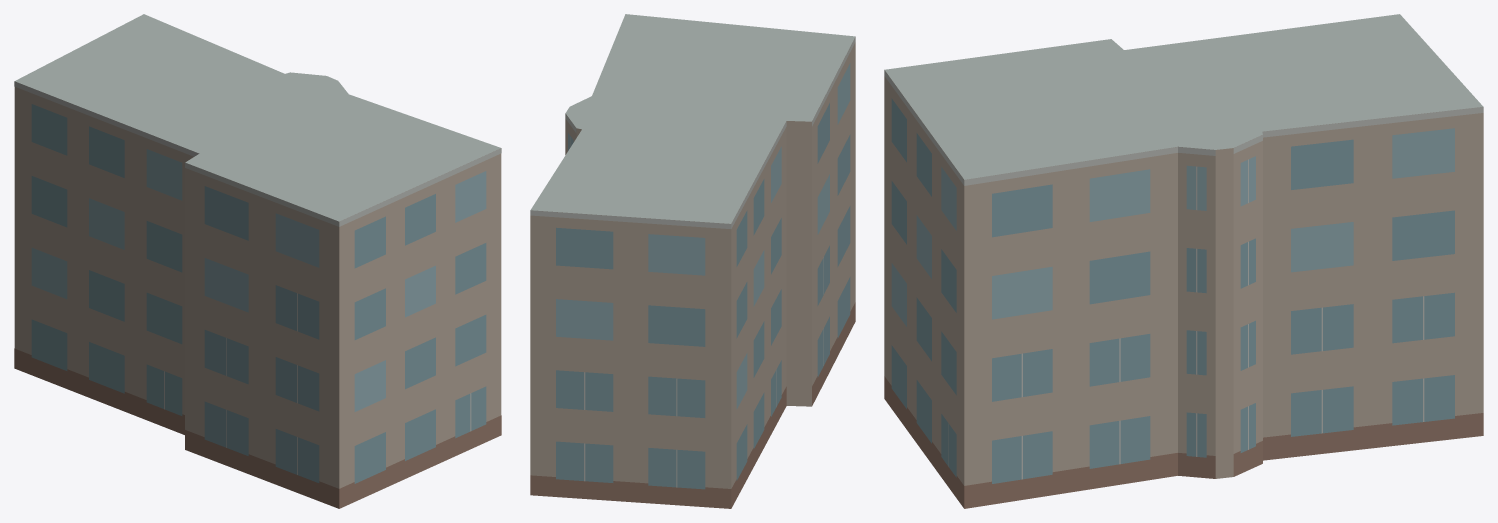
File: survey-upis-32611818.glb
3 renders of one model, left to right at view 1: azimuth 30°, elevation 25°; view 2: azimuth 150°, elevation 25°; view 3: azimuth 270°, elevation 25°, orthographic. The views are drawn at different scales.
Visible parts, largest first — view 1: survey-upis-32611818.tmp; view 2: survey-upis-32611818.tmp; view 3: survey-upis-32611818.tmp.
Part boxes in pixels (x1=…): survey-upis-32611818.tmp: x1=14, y1=14, x2=501, y2=508; survey-upis-32611818.tmp: x1=530, y1=14, x2=855, y2=508; survey-upis-32611818.tmp: x1=884, y1=14, x2=1483, y2=508.
Size of the model in its own units: 14.28 by 13.2 by 21.8.
